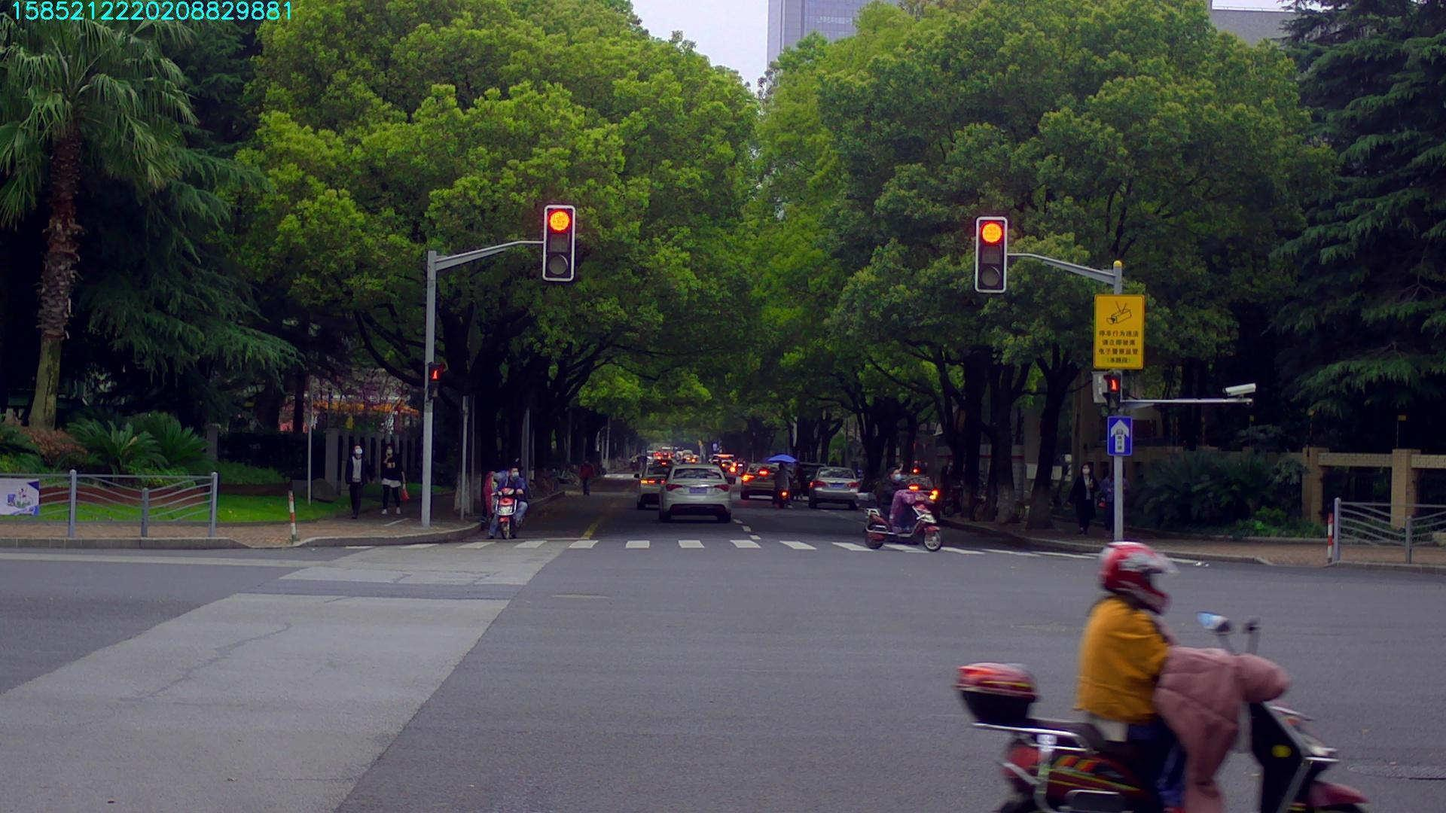red: (977, 218, 1004, 291), (545, 206, 571, 279)
